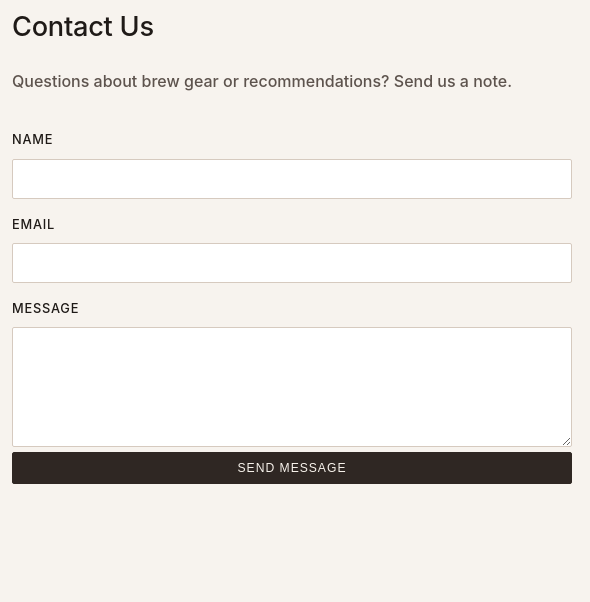
ContactPage › shows validation errors on empty submit
The width and height of the screenshot is (590, 602).
Step 1. Click the button "Send message" → (292, 468), box [12,452,572,484]
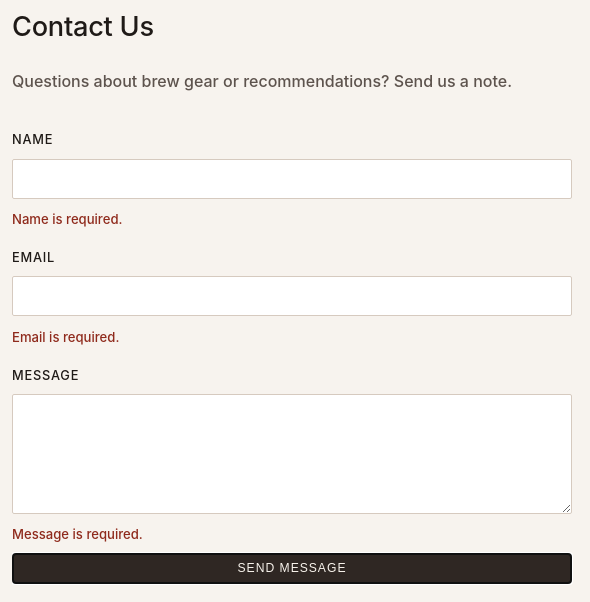
Check: the text "Name is required." is shown, box [12,211,122,227]
Check: the text "Email is required." is shown, box [12,328,119,344]
Check: the text "Message is required." is shown, box [12,526,143,542]
